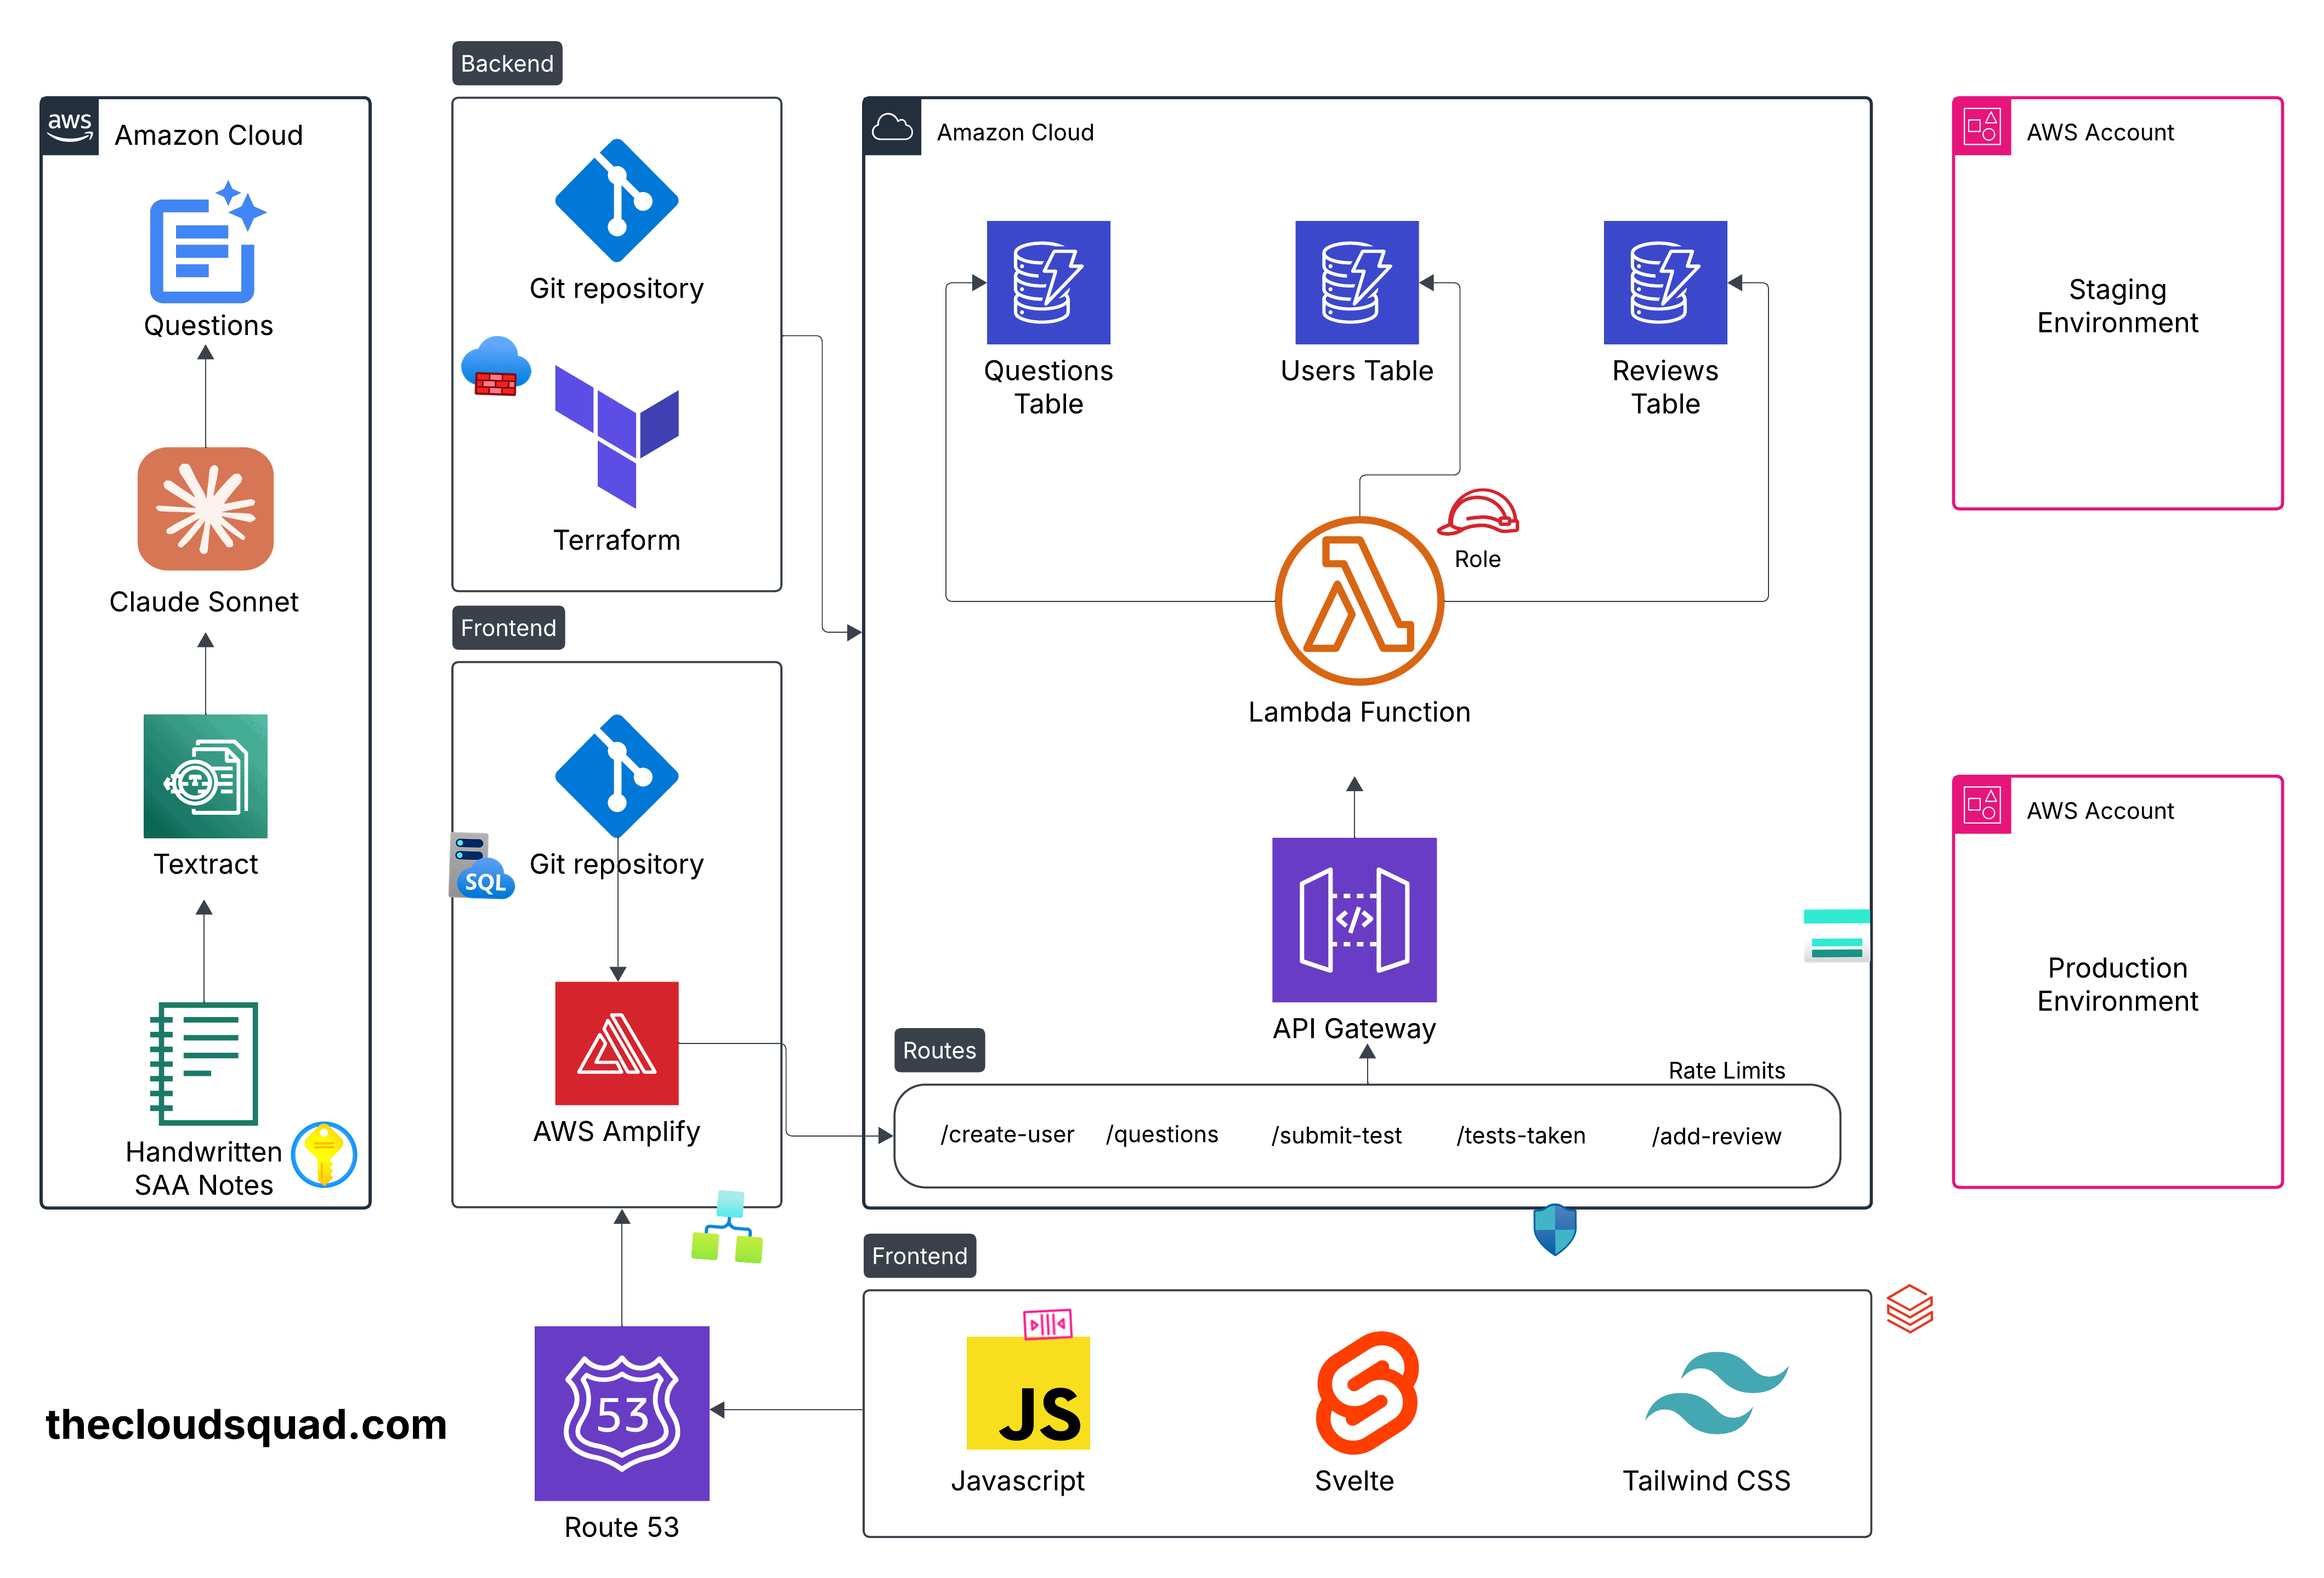aws_simple_queue_service_queue: (1019, 1296, 1076, 1353)
azure_databricks: (1884, 1282, 1937, 1335)
azure_firewalls: (460, 329, 533, 403)
azure_key_vaults: (289, 1118, 359, 1191)
azure_logic_apps: (690, 1189, 766, 1265)
azure_network_security_groups: (1528, 1203, 1583, 1257)
azure_sql_managed_instance: (447, 830, 519, 902)
azure_storage_accounts: (1801, 900, 1873, 972)
